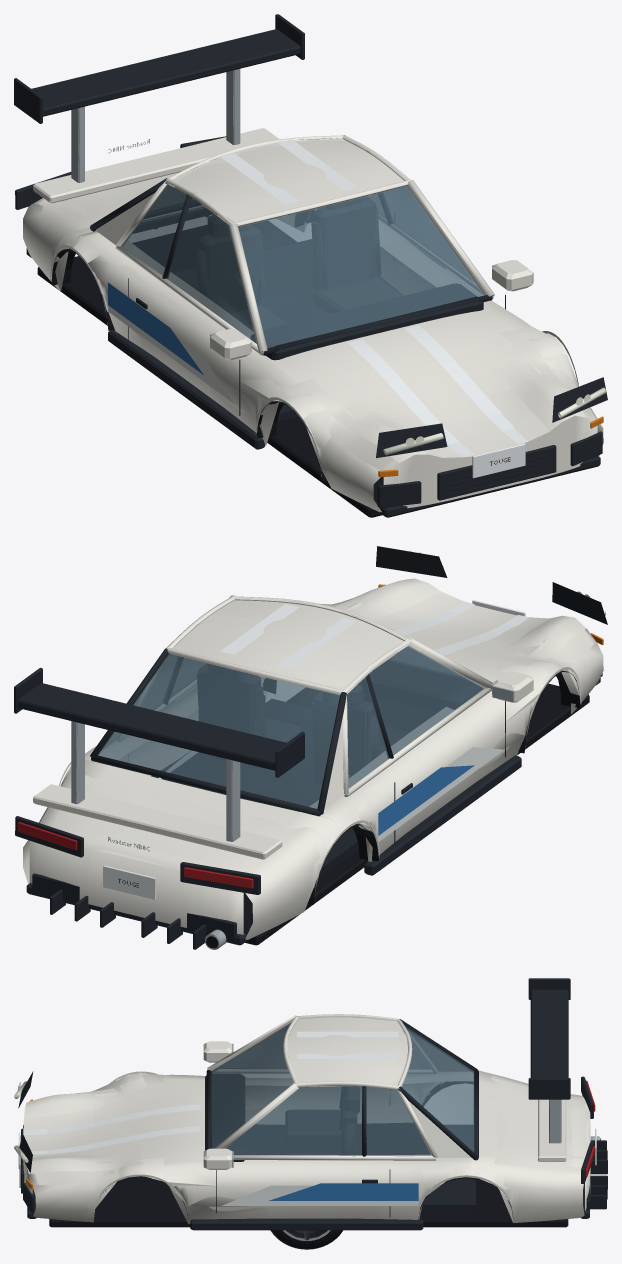
The picture shows the model from 3 angles, top to bottom: view 1: azimuth 30°, elevation 25°; view 2: azimuth 150°, elevation 25°; view 3: azimuth 270°, elevation 25°; orthographic projection. The views are drawn at different scales.
Visible parts, largest first — view 1: LOD0_cabin, LOD0_body, LOD0_glass, LOD1_glass, LOD1_body, LOD0_hood, LOD1_hood, LOD1_spoiler_gt, LOD0_spoiler_gt, LOD1_spoiler_stock, LOD0_vinyl_twin, LOD0_vinyl_apex (+3 smaller); view 2: LOD0_body, LOD0_cabin, LOD0_glass, LOD1_glass, LOD1_body, LOD1_spoiler_gt, LOD0_spoiler_gt, LOD1_hood, LOD0_hood, LOD1_cabin, LOD1_spoiler_stock, LOD0_vinyl_apex (+3 smaller); view 3: LOD0_body, LOD0_cabin, LOD1_body, LOD0_glass, LOD1_glass, LOD0_hood, LOD1_hood, LOD1_cabin, LOD0_vinyl_apex, LOD1_spoiler_gt, LOD0_spoiler_gt, LOD0_vinyl_twin (+5 smaller).
Boxes of the visible parts, x1,y1,x2,y2 form: LOD0_cabin: (90, 135, 494, 421); LOD0_body: (15, 136, 607, 517); LOD0_glass: (122, 185, 484, 347); LOD1_glass: (122, 185, 483, 347); LOD1_body: (15, 145, 604, 517); LOD0_hood: (269, 308, 586, 463); LOD1_hood: (312, 326, 549, 457); LOD1_spoiler_gt: (14, 29, 303, 182); LOD0_spoiler_gt: (14, 14, 304, 182); LOD1_spoiler_stock: (33, 128, 278, 203); LOD0_vinyl_twin: (221, 139, 514, 444); LOD0_vinyl_apex: (108, 247, 447, 403); LOD0_body: (15, 546, 607, 949); LOD0_cabin: (90, 595, 492, 877); LOD0_glass: (98, 646, 483, 808); LOD1_glass: (98, 646, 484, 808); LOD1_body: (15, 551, 604, 949); LOD1_spoiler_gt: (16, 667, 295, 841); LOD0_spoiler_gt: (14, 668, 304, 841); LOD1_hood: (345, 590, 549, 670); LOD0_hood: (333, 578, 586, 682); LOD1_cabin: (162, 595, 491, 877); LOD1_spoiler_stock: (33, 784, 281, 859); LOD0_vinyl_apex: (172, 686, 504, 841); LOD0_body: (14, 1041, 607, 1230); LOD0_cabin: (205, 1014, 478, 1210); LOD1_body: (15, 1041, 600, 1229); LOD0_glass: (211, 1023, 474, 1155); LOD1_glass: (211, 1023, 474, 1155); LOD0_hood: (23, 1079, 204, 1173); LOD1_hood: (23, 1086, 188, 1162); LOD1_cabin: (206, 1015, 478, 1210); LOD0_vinyl_apex: (222, 1183, 418, 1205); LOD1_spoiler_gt: (529, 989, 569, 1142); LOD0_spoiler_gt: (528, 978, 570, 1143); LOD0_vinyl_twin: (31, 1031, 398, 1154).
Bounding box in the file's own units: 1.94 × 1.66 × 4.14.
